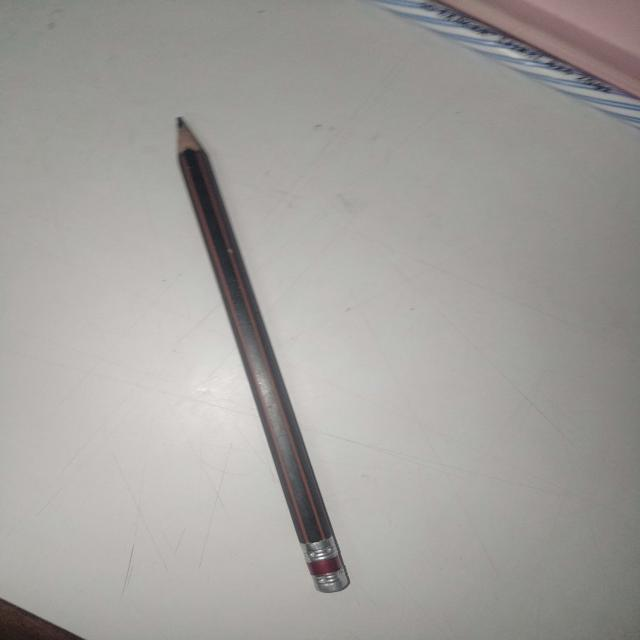pen_pencil: (153, 93, 371, 624)
